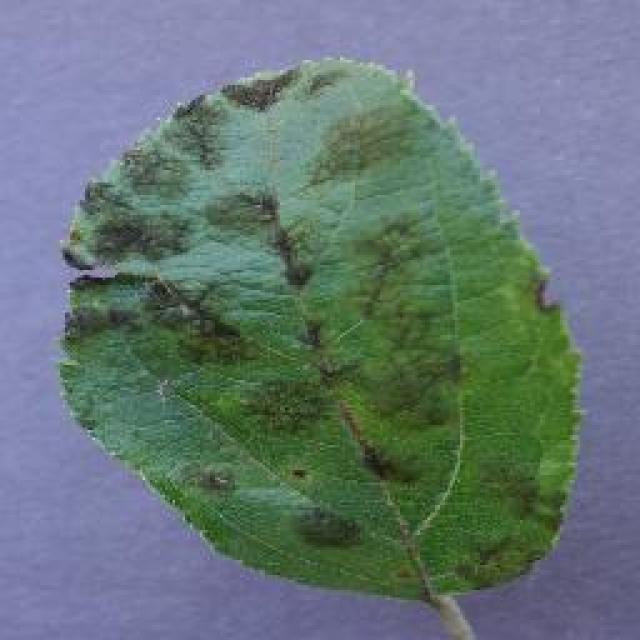apple scab disease: (55, 52, 585, 632)
